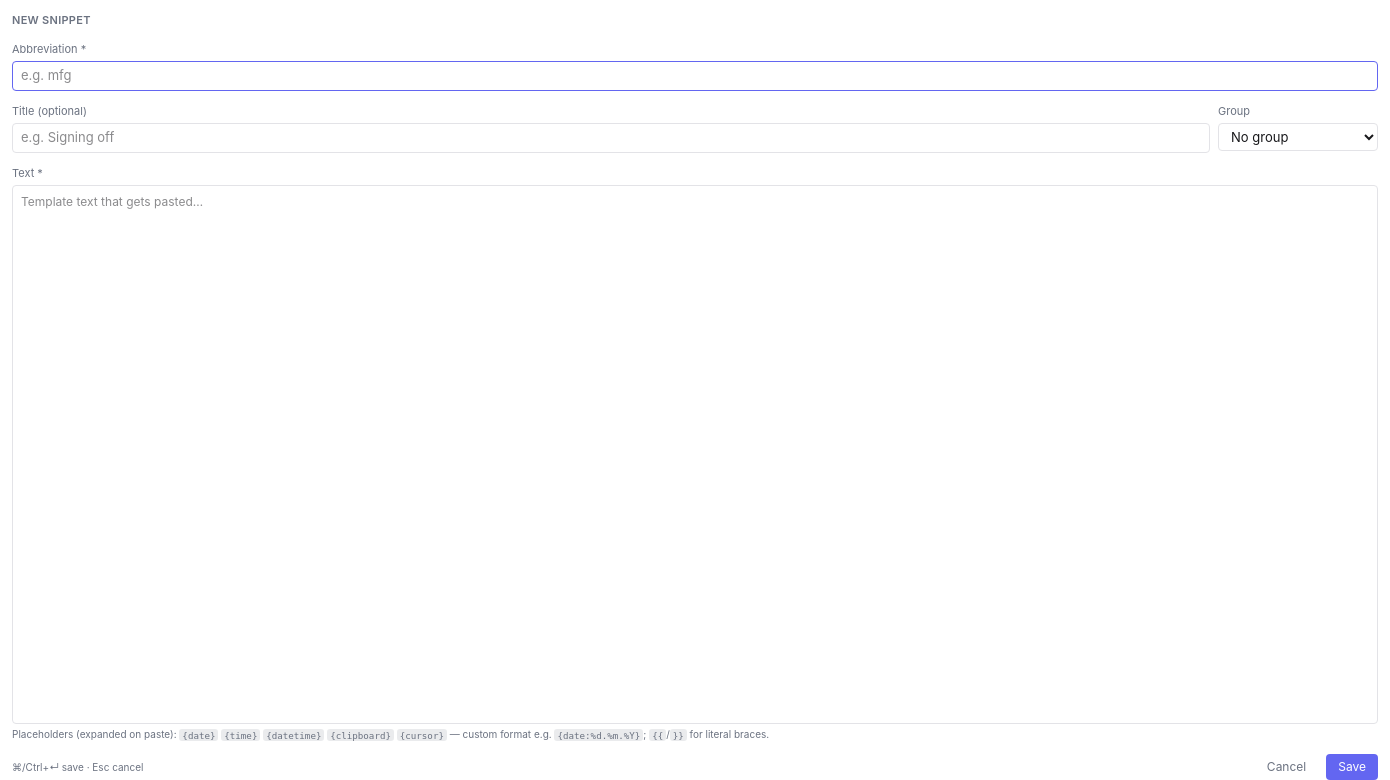
Test case: SnippetEditor — validation › refuses to save without a body
Type "mfg" into the field with placeholder "e.g. mfg". click: (695, 76)
box: [12,61,1378,90]
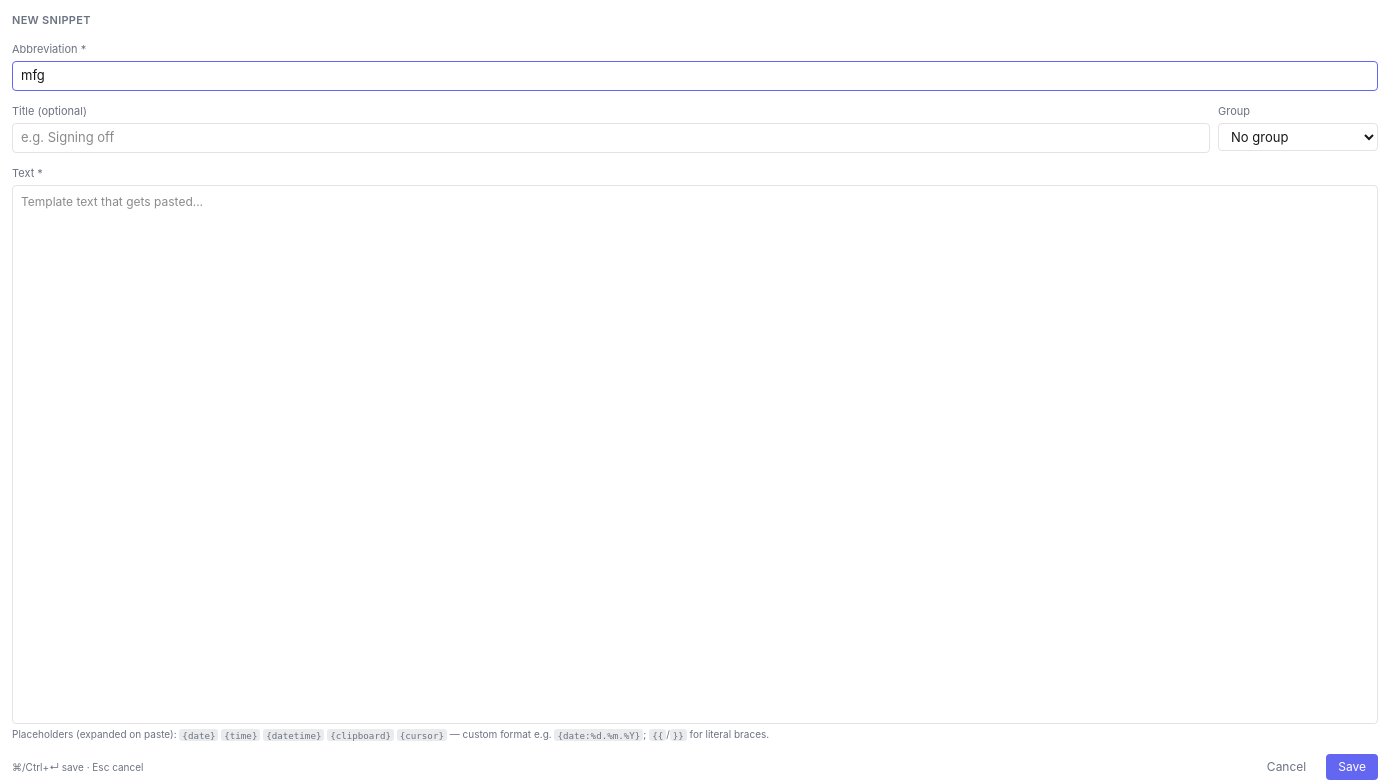
Click the button "Save". click: (1352, 767)
box: [1326,754,1378,779]
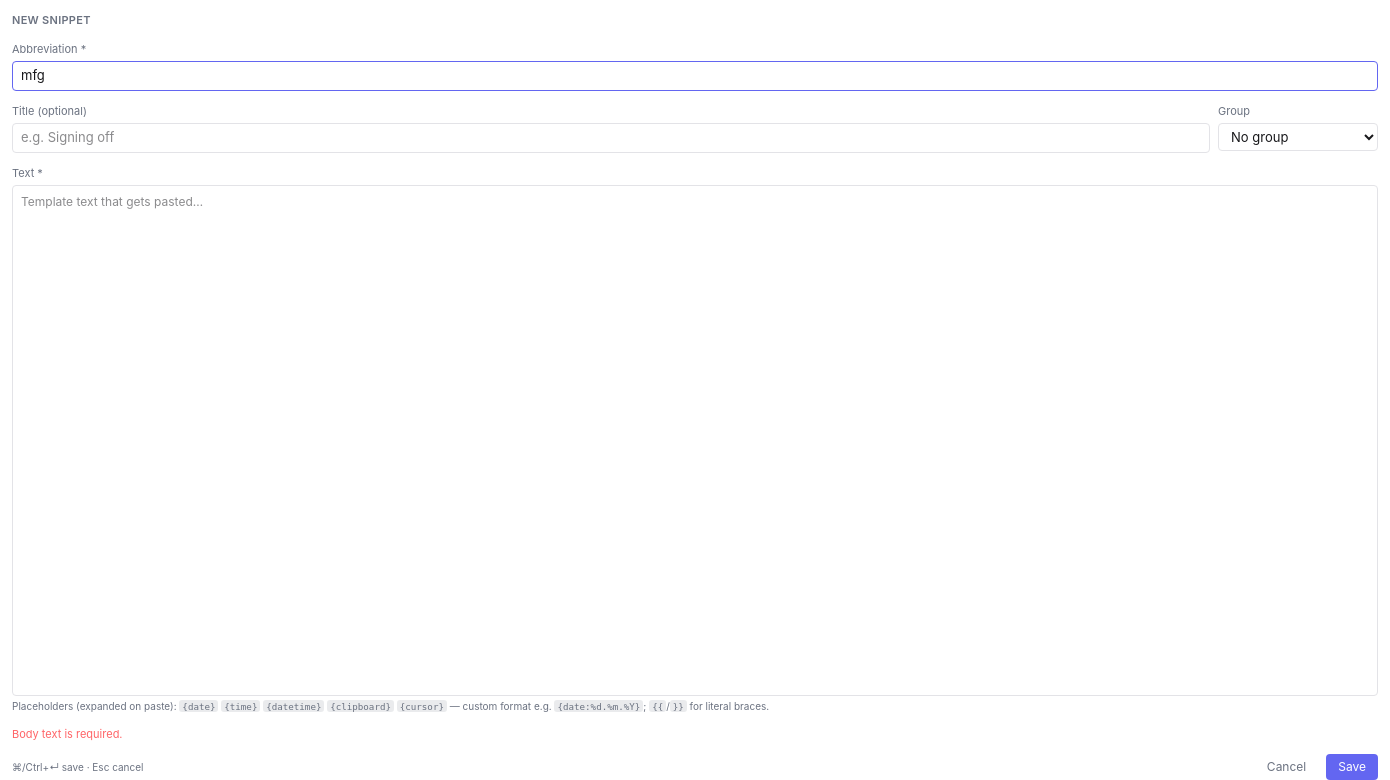
Expected: the text "Body text is required." is shown, [12,726,122,740]
